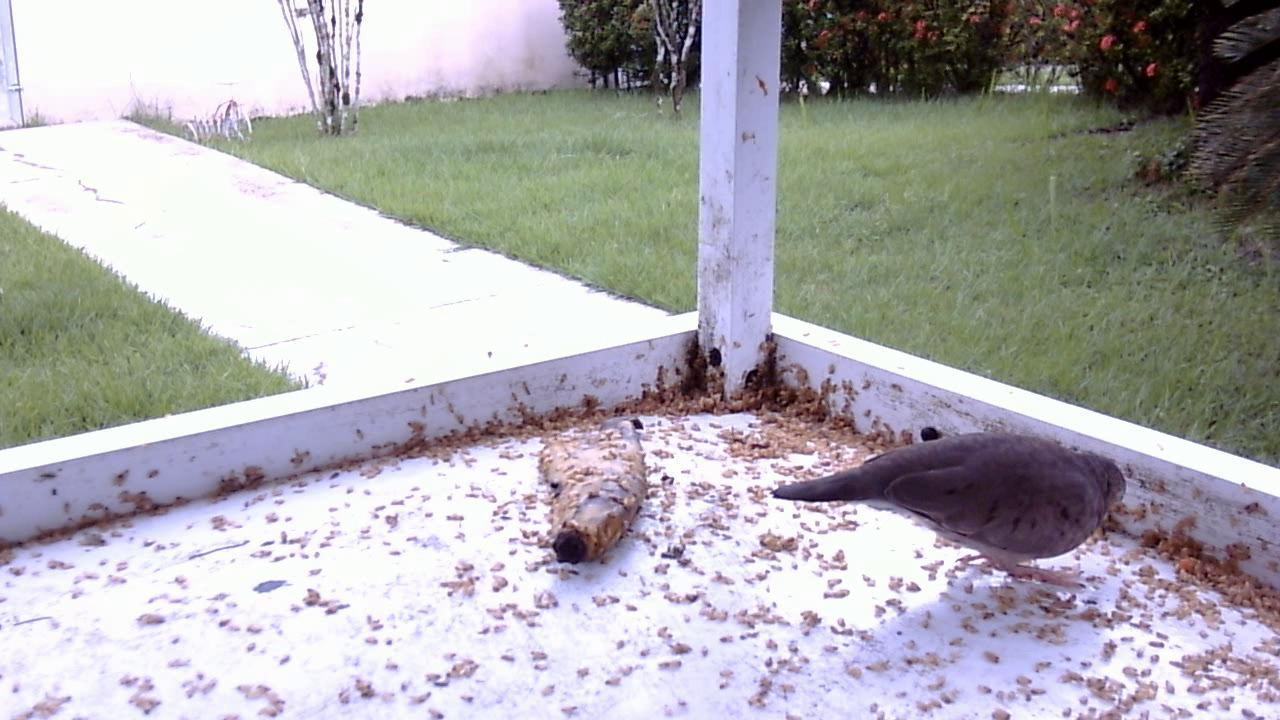rolinha: (767, 419, 1134, 593)
